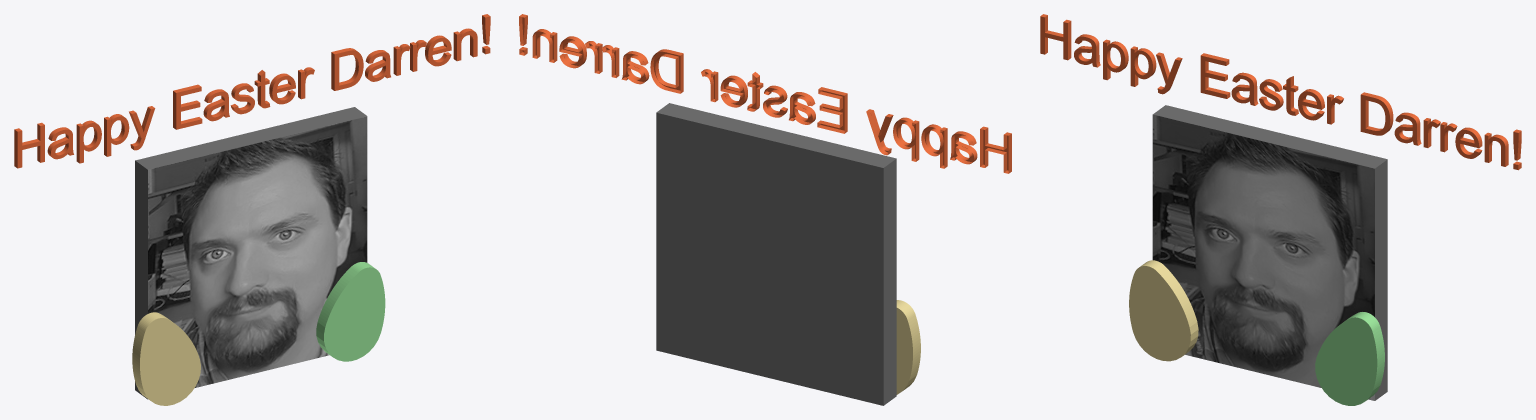
Rendered from Easter Darren.FBX.
3 renders of one model, left to right at view 1: azimuth 30°, elevation 25°; view 2: azimuth 150°, elevation 25°; view 3: azimuth 330°, elevation 25°, orthographic. The views are drawn at different scales.
Parts seen in each view (by area): view 1: Darrenloyd; view 2: Darrenloyd; view 3: Darrenloyd.
Boxes of the visible parts, x1,y1,x2,y2 form: Darrenloyd: (14, 14, 490, 405); Darrenloyd: (519, 14, 1011, 405); Darrenloyd: (1040, 14, 1521, 405).
Bounding box in the file's own units: 547 × 325 × 40.99.
